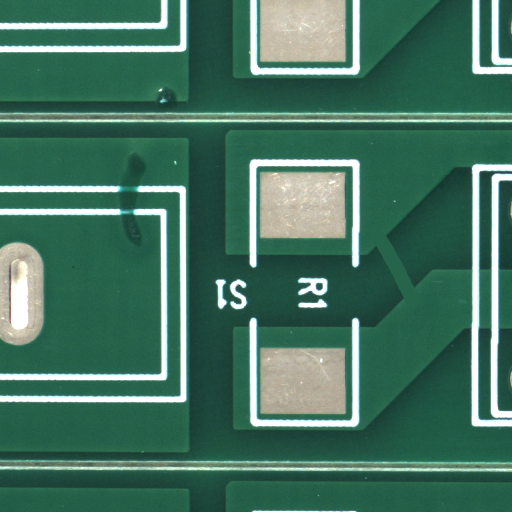Short: (393, 271, 447, 346)
